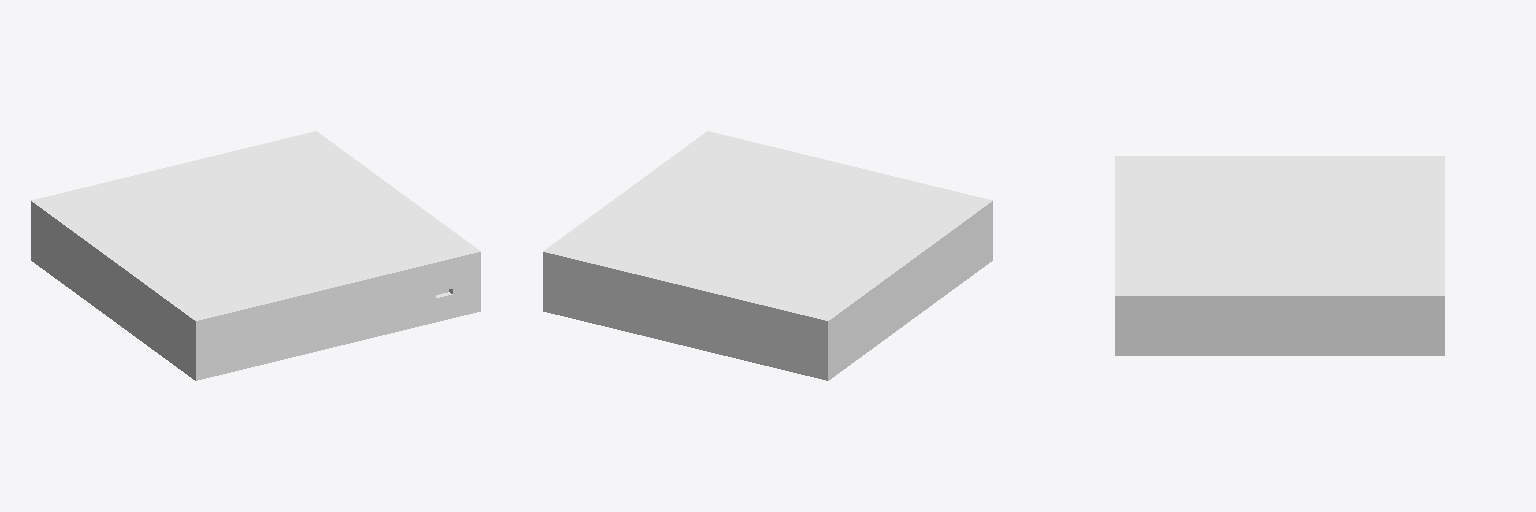
The model's file is TerrainVar3.obj.
3 views of the same model, side by side, from view 1: azimuth 30°, elevation 25°; view 2: azimuth 150°, elevation 25°; view 3: azimuth 270°, elevation 25° (orthographic).
Parts seen in each view (by area): view 1: Treasure; view 2: Treasure; view 3: Treasure.
Part boxes in pixels (bbox=[...]): Treasure: bbox=[31, 131, 480, 380]; Treasure: bbox=[543, 131, 992, 380]; Treasure: bbox=[1115, 156, 1444, 355].
Bounding box in the file's own units: 5 × 1 × 5.